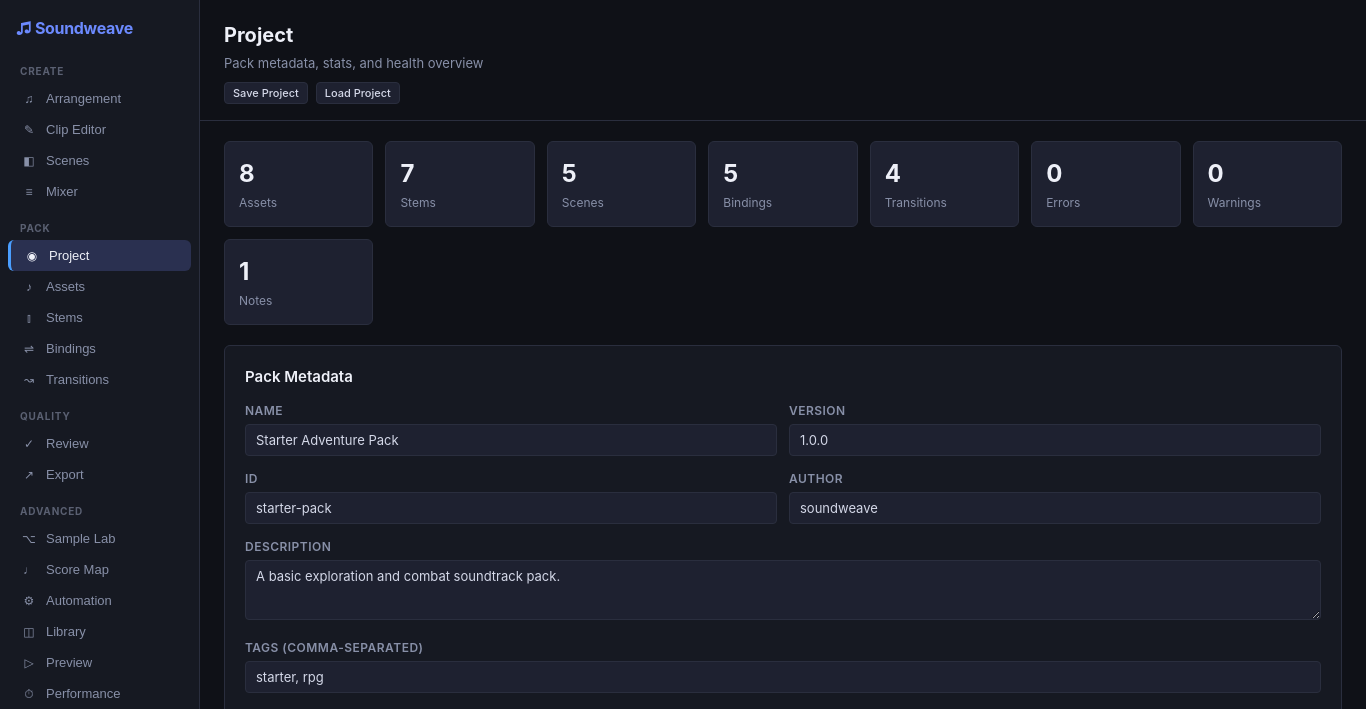
Studio — navigation › switches to assets screen
Click the button "♪ Assets" at (100,286), box [8, 271, 191, 302]
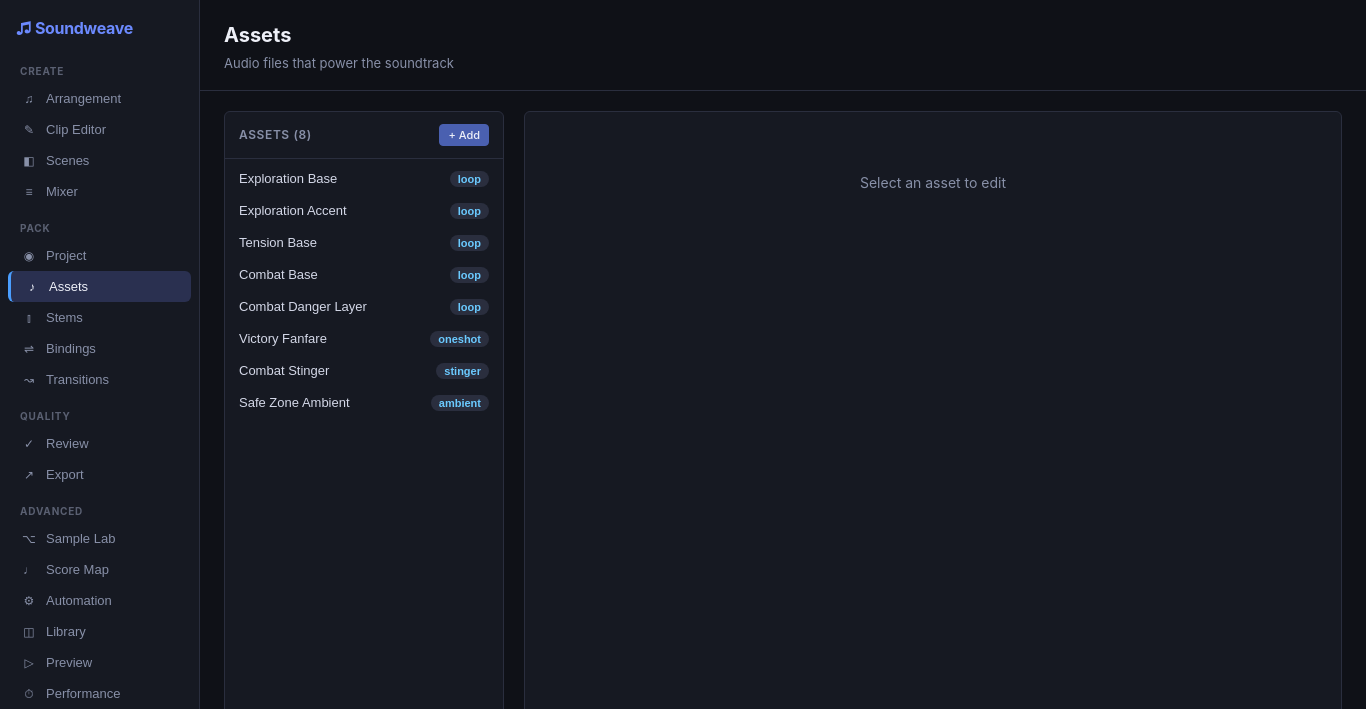
Check: the text "Assets (8)" is shown, box [239, 126, 312, 144]
